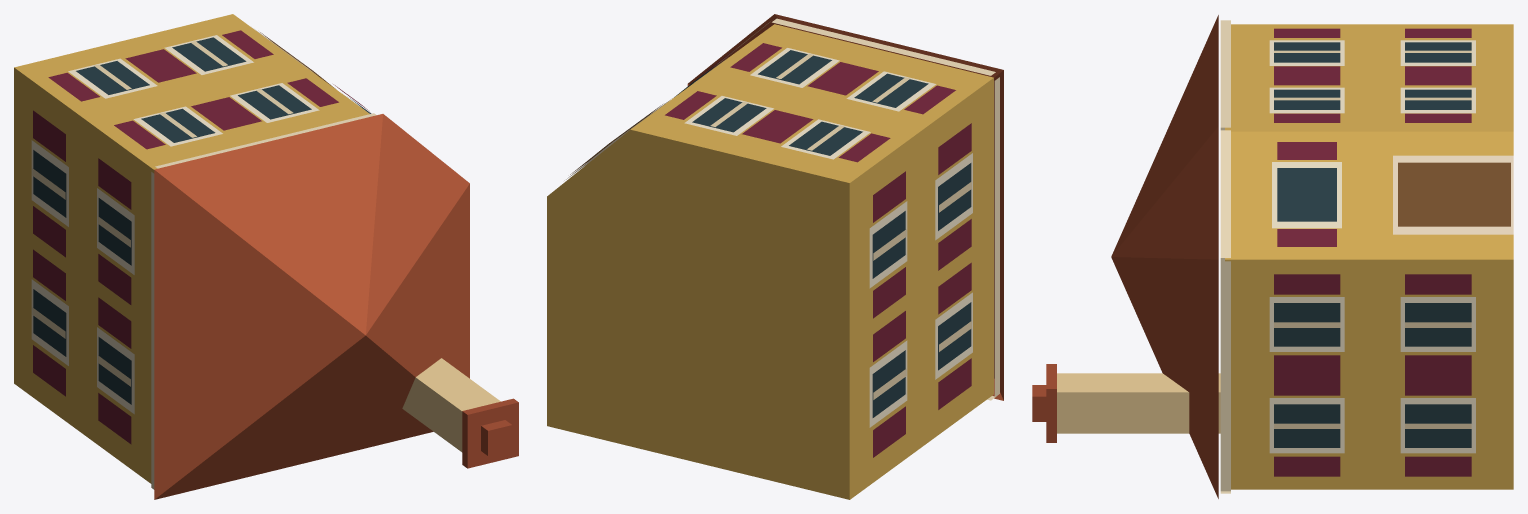
Rendered from house-4.obj.
3 renders of one model, left to right at view 1: azimuth 30°, elevation 25°; view 2: azimuth 150°, elevation 25°; view 3: azimuth 270°, elevation 25°, orthographic.
Bounding box in the file's own units: 2.09 × 2.09 × 2.75.
